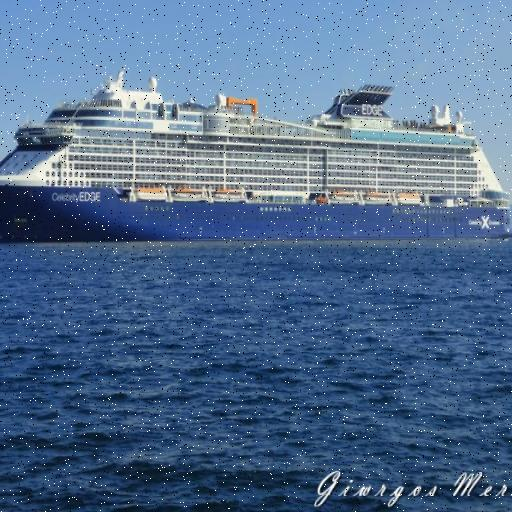cruises: (1, 64, 512, 251)
